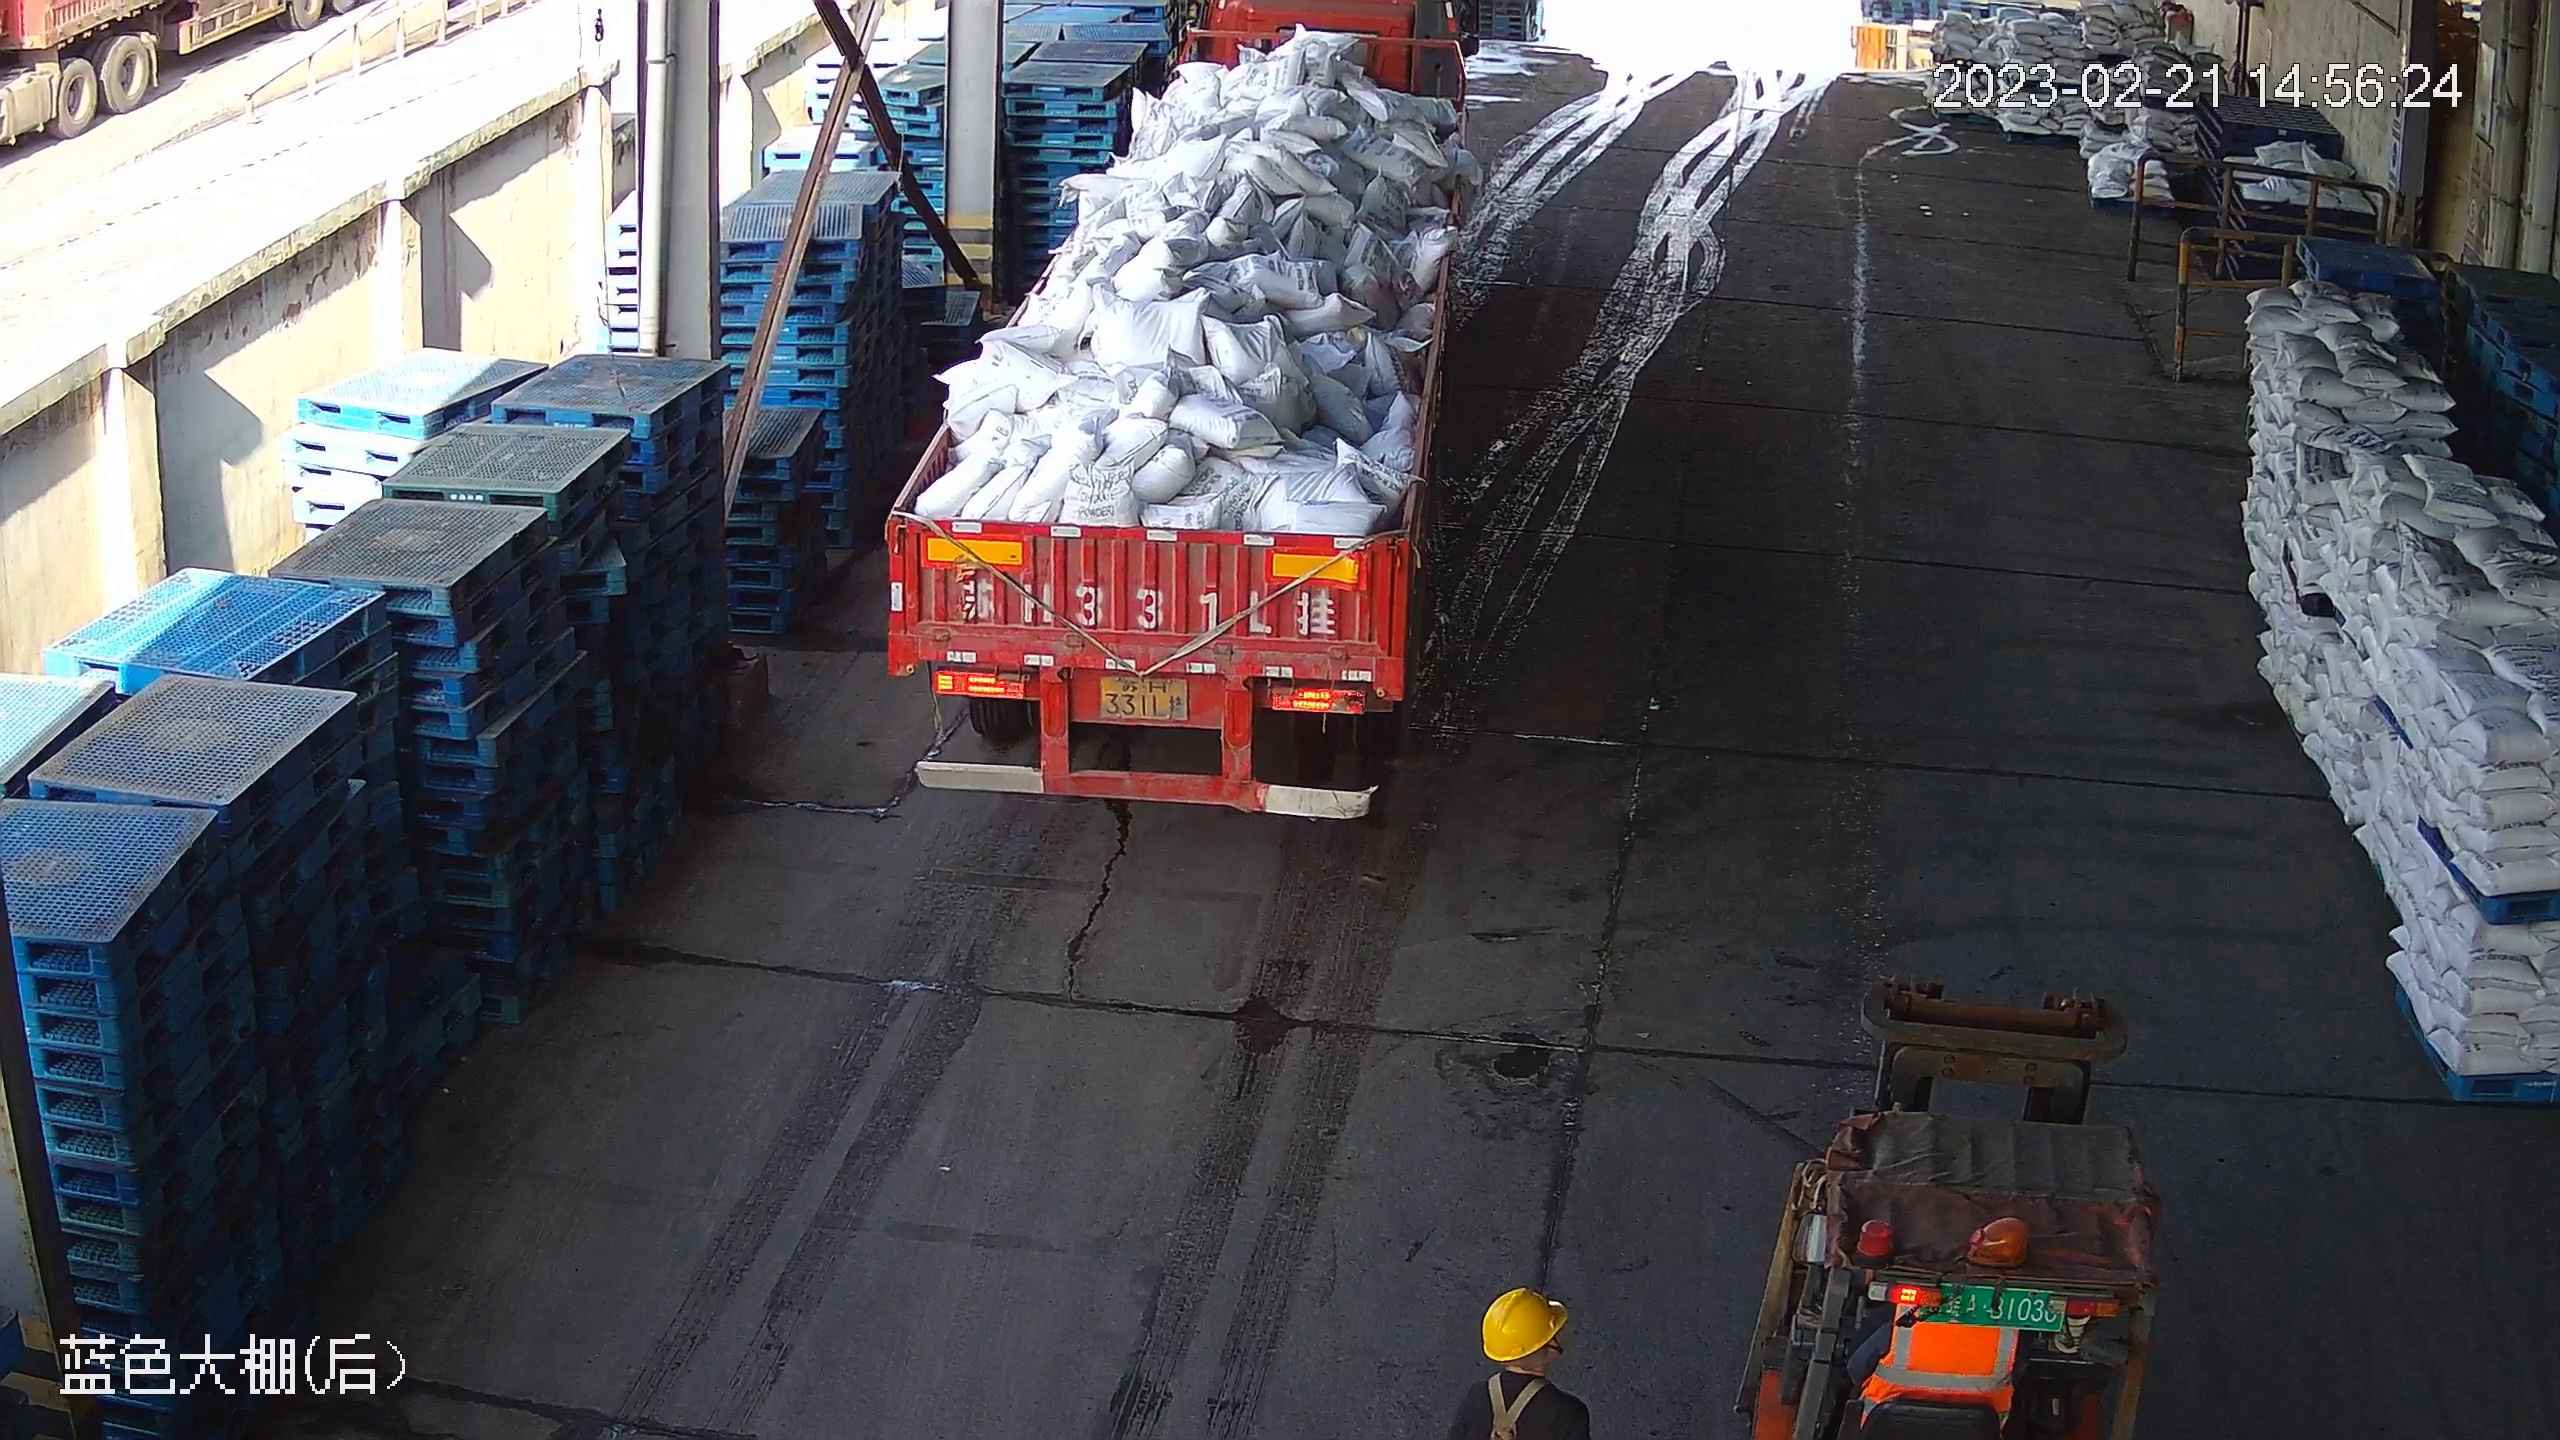belt: (1484, 1367, 1548, 1440)
head: (1446, 1285, 1600, 1440)
helmet: (1476, 1288, 1568, 1367)
truck: (879, 1, 1479, 829)
